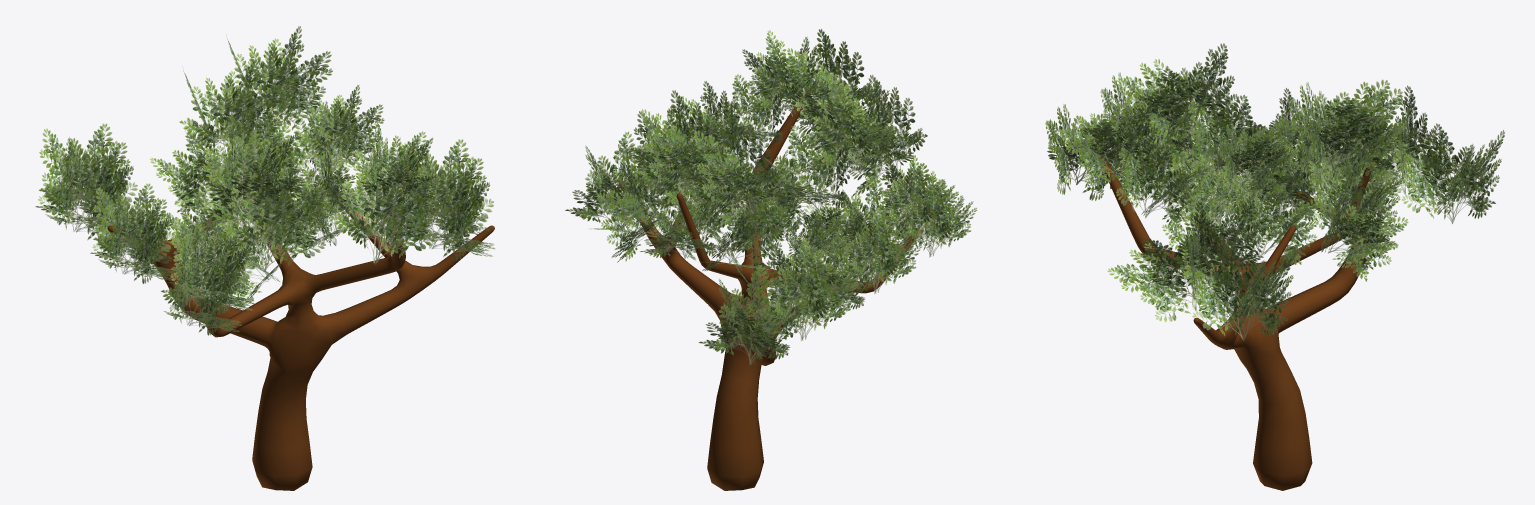
The model's file is acacia_03.glb.
3 views of the same model, side by side, from view 1: azimuth 30°, elevation 25°; view 2: azimuth 150°, elevation 25°; view 3: azimuth 270°, elevation 25° (orthographic). The views are drawn at different scales.
Parts seen in each view (by area): view 1: acacia_03_leaves, acacia_03; view 2: acacia_03_leaves, acacia_03; view 3: acacia_03_leaves, acacia_03.
Part boxes in pixels (x1,y1,x2,y2): acacia_03_leaves: (35, 26, 495, 335); acacia_03: (107, 118, 494, 490); acacia_03_leaves: (565, 29, 977, 364); acacia_03: (619, 92, 920, 490); acacia_03_leaves: (1045, 43, 1504, 340); acacia_03: (1097, 154, 1373, 490).
Size of the model in its own units: 6.47 by 7.09 by 7.31.
2 materials, 1 textured.
